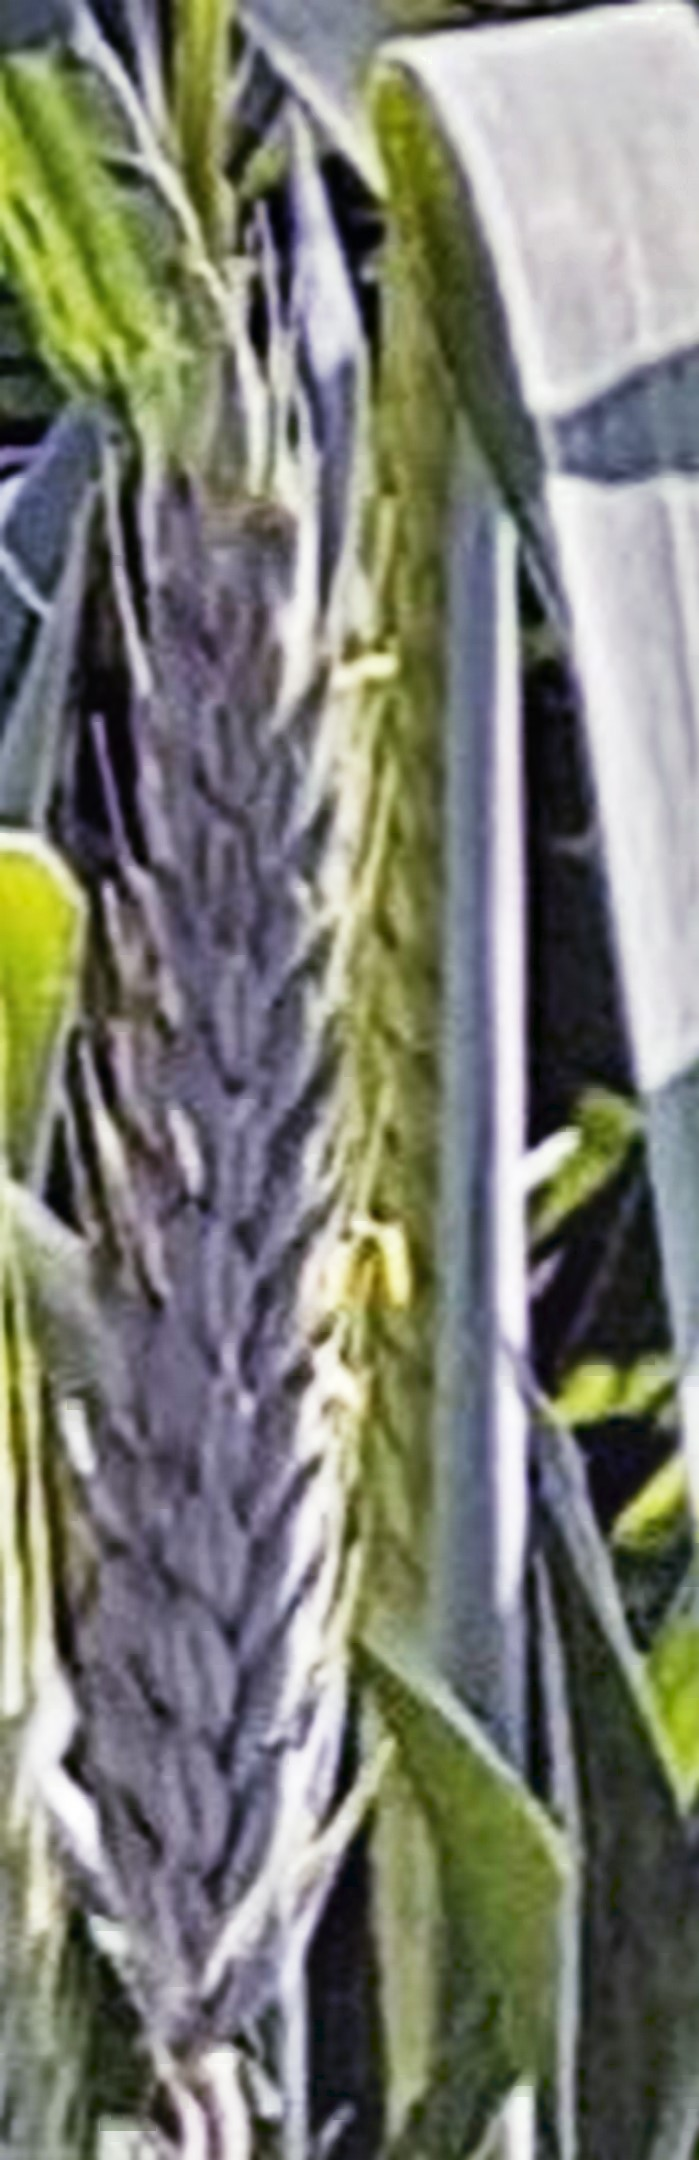Healthy Wheat: (62, 455, 415, 2024)
